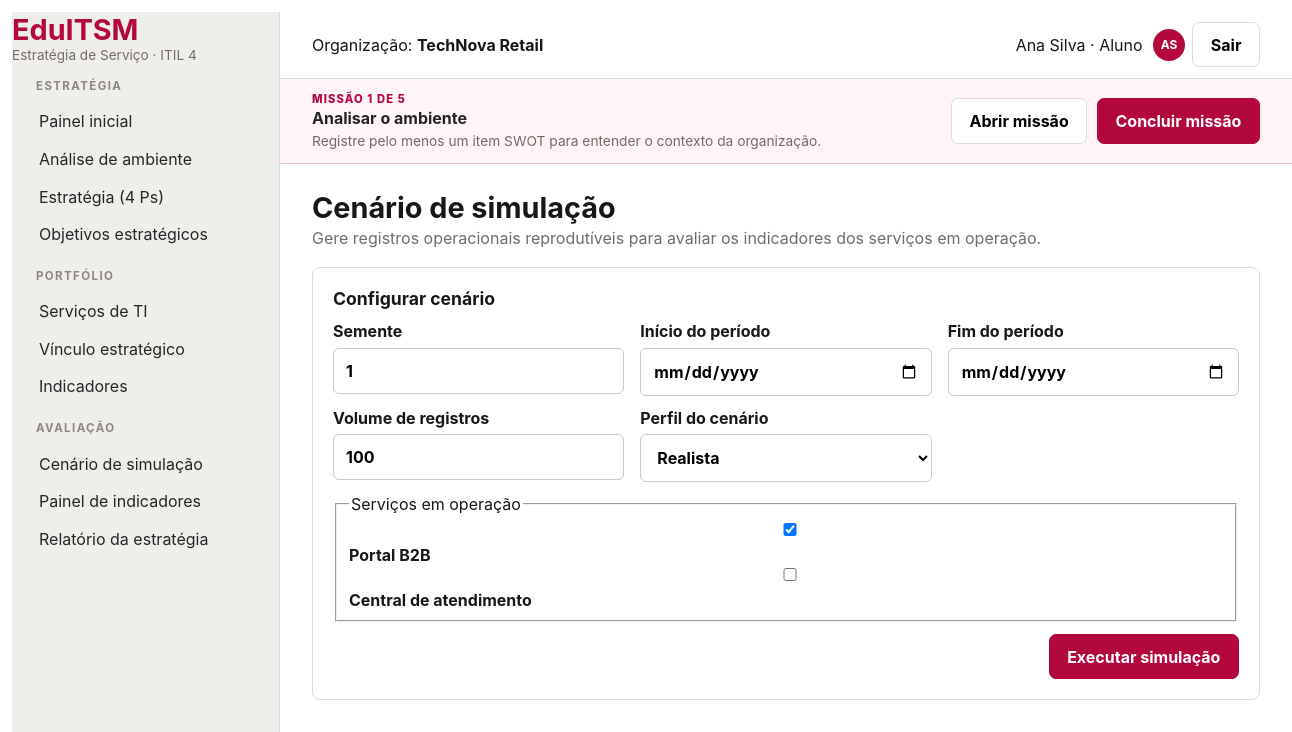
Test: T12 cenário de simulação › exige ao menos um serviço em operação antes de executar
Click the checkbox labelled "Portal B2B". click: (790, 529)
box: 353,522 -> 1227,536
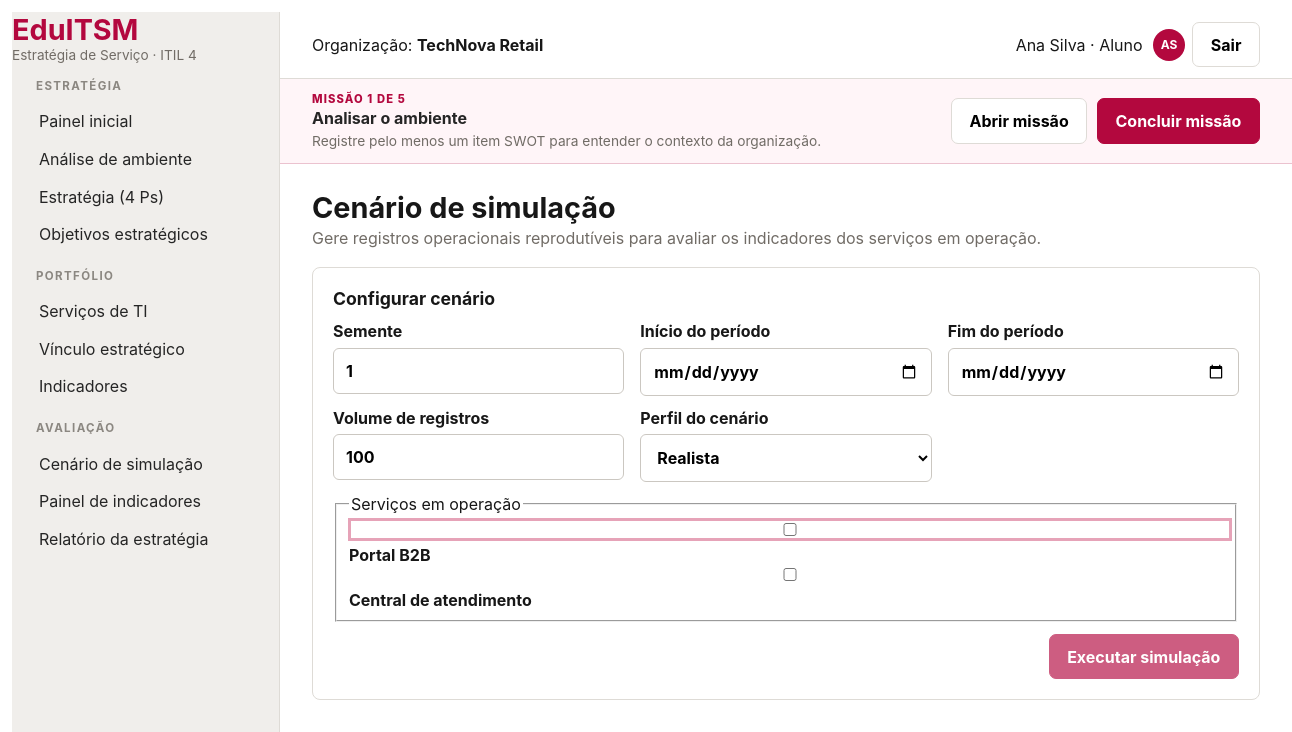
expect the button "Executar simulação" is disabled: met, box 1048,634 -> 1239,679
